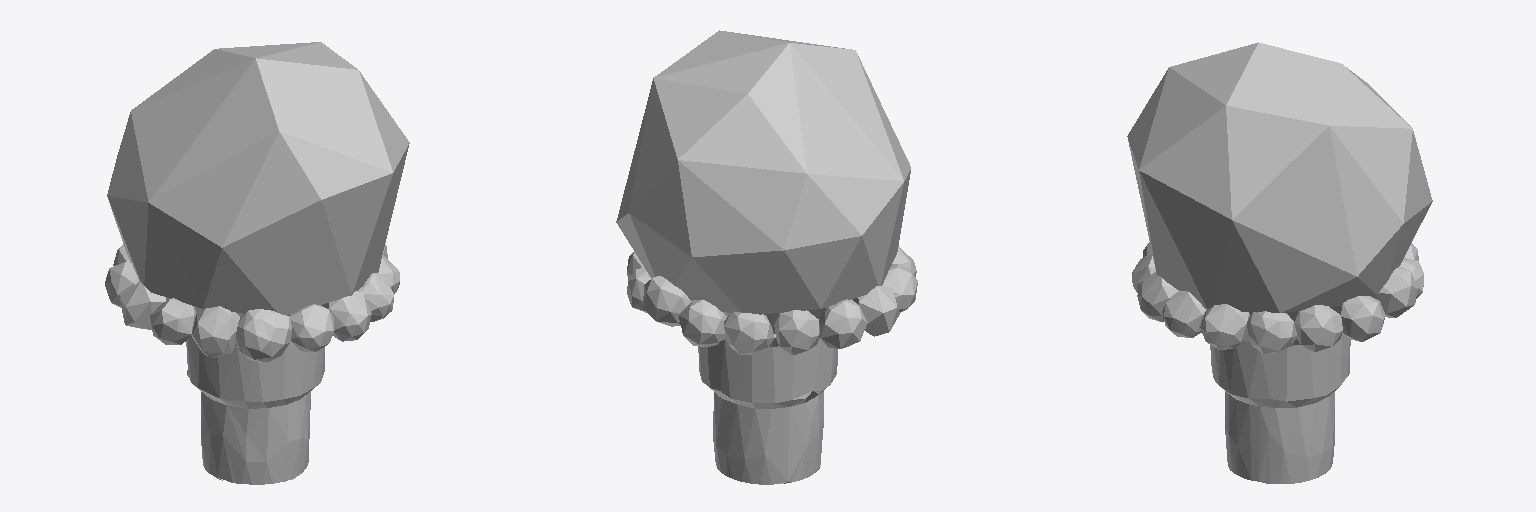
The model's file is balloon3.obj.
3 views of the same model, side by side, from view 1: azimuth 30°, elevation 25°; view 2: azimuth 150°, elevation 25°; view 3: azimuth 270°, elevation 25° (orthographic).
Parts seen in each view (by area): view 1: Icosphere.011_Icosphere.012; view 2: Icosphere.011_Icosphere.012; view 3: Icosphere.011_Icosphere.012.
Part boxes in pixels (bbox=[...]): Icosphere.011_Icosphere.012: bbox=[105, 42, 409, 484]; Icosphere.011_Icosphere.012: bbox=[616, 30, 917, 484]; Icosphere.011_Icosphere.012: bbox=[1127, 42, 1432, 483].
Size of the model in its own units: 1.65 by 2.53 by 1.68.